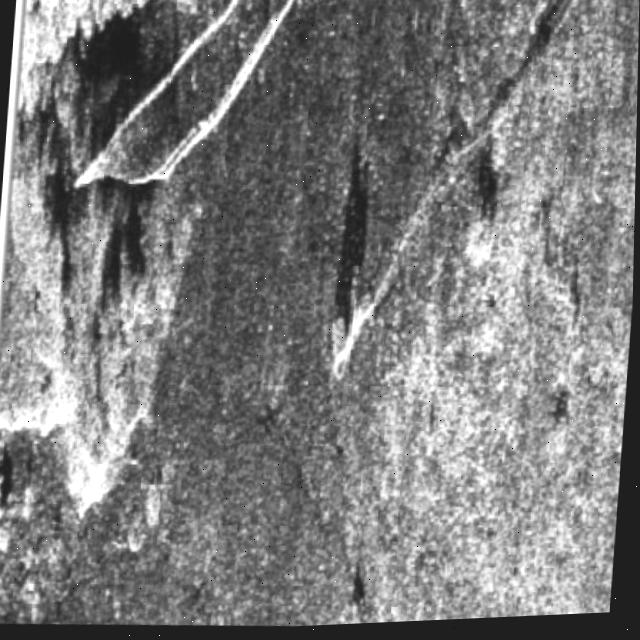bedrock group: (0, 0, 204, 520)
